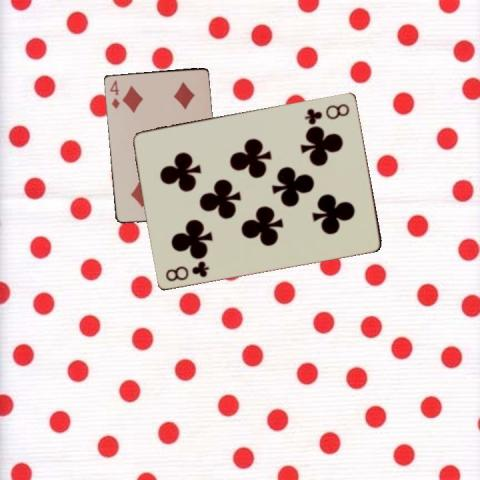4d: (106, 77, 120, 110)
8c: (162, 257, 210, 283), (302, 100, 351, 124)
